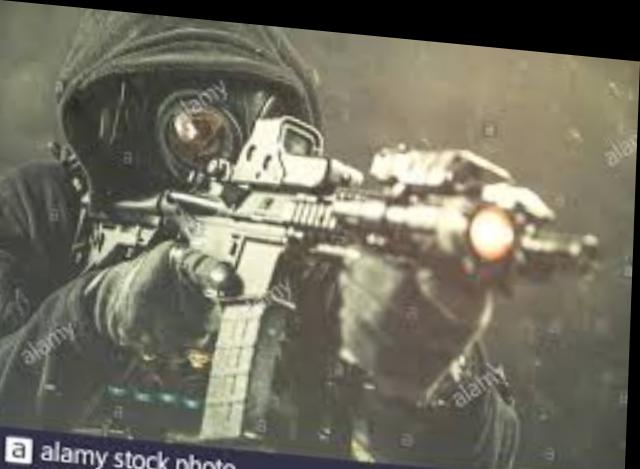other: (9, 8, 529, 461)
